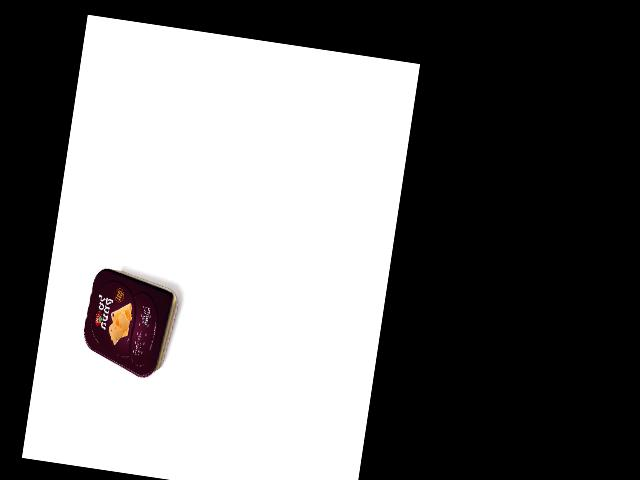cheese: (77, 266, 181, 381)
